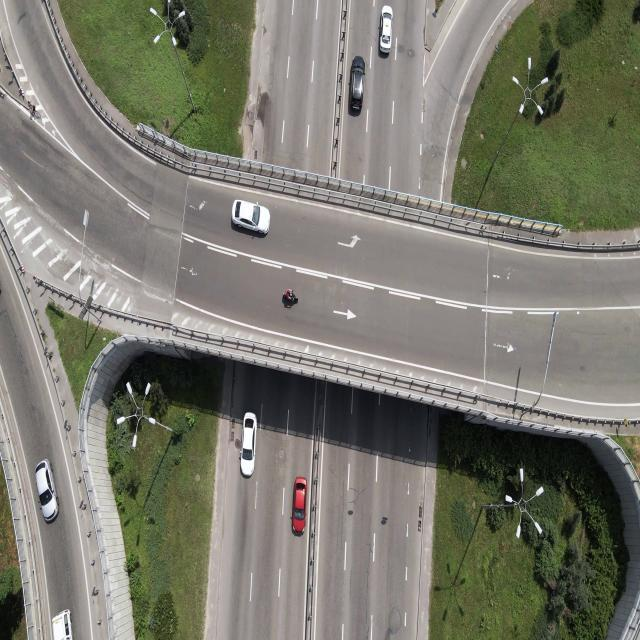vehicle: (35, 458, 59, 522), (231, 199, 271, 235), (240, 411, 256, 476), (350, 54, 365, 110), (292, 476, 306, 534), (52, 608, 74, 640), (380, 4, 392, 53), (284, 286, 298, 304)
